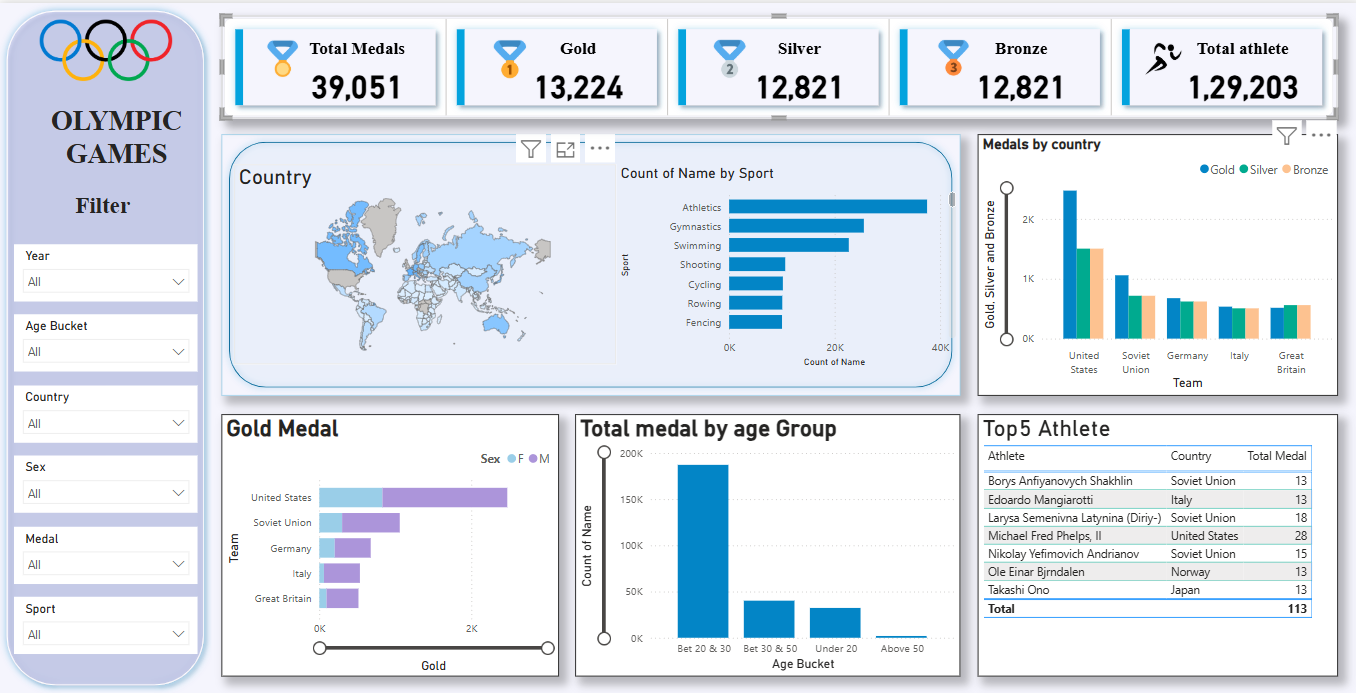

Layout of this report page (visuals, bound fields, positions):
{"tool":"powerbi","page":{"name":"Page 1","canvas":[1580,800],"ordinal":0},"visuals":[{"type":"shape","box":[258,152.2,856.5,302.9],"z":0},{"type":"cardVisual","fields":{"Data":["All Measures.Total Medals","All Measures.Glod","All Measures.Silver","All Measures.Bronze","All Measures.Total athlete"]},"box":[258,14.5,1294.2,120.3],"z":1000},{"type":"shapeMap","title":"Country ","fields":{"Value":["athlete.Medal"],"Category":["athlete.Team"]},"box":[272.5,187,443.5,231.9],"z":2000},{"type":"barChart","fields":{"Category":["athlete.Sport"],"Y":["athlete.Name"]},"box":[668.1,184.1,398.6,240.6],"z":3000},{"type":"clusteredColumnChart","title":"Medals by country ","fields":{"Category":["athlete.Team"],"Y":["All Measures.Gold","All Measures.Silver","All Measures.Bronze"]},"box":[1134.8,152.2,417.4,302.9],"z":4000},{"type":"barChart","title":"Gold Medal","fields":{"Category":["athlete.Team"],"Y":["All Measures.Gold"],"Series":["athlete.Sex"]},"box":[258,476.8,391.3,304.3],"z":5000},{"type":"columnChart","title":"Total medal by age Group","fields":{"Category":["athlete.Age Bucket"],"Y":["athlete.Name"]},"box":[668.1,476.8,446.4,304.3],"z":6000},{"type":"tableEx","title":"Top5 Athlete ","fields":{"Values":["athlete.Name","athlete.Team","athlete.Medal"]},"box":[1134.8,476.8,417.4,304.3],"z":7000},{"type":"shape","box":[0,0,246.4,800],"z":8000},{"type":"image","box":[22.9,14.5,201.4,81.2],"z":9000},{"type":"textbox","box":[42,113,188.4,88.4],"z":10000},{"type":"textbox","box":[65.6,214.1,115.9,50.7],"z":11000},{"type":"slicer","fields":{"Values":["athlete.Year"]},"box":[17.1,279.9,213,66.7],"z":12000},{"type":"slicer","fields":{"Values":["athlete.Team"]},"box":[17.1,443.3,213,66.7],"z":13000},{"type":"slicer","fields":{"Values":["athlete.Sex"]},"box":[17.1,525,213,66.7],"z":14000},{"type":"slicer","fields":{"Values":["athlete.Medal"]},"box":[17.1,606.7,213,66.7],"z":15000},{"type":"slicer","fields":{"Values":["athlete.Sport"]},"box":[17.1,688.4,213,66.7],"z":16000},{"type":"slicer","fields":{"Values":["athlete.Age Bucket"]},"box":[17.1,361.6,213,66.7],"z":17000}]}

Visuals, with their boxes in screenshot pixels (x1, y1, x2, y2), scaled from the page's 1580x800 canvas onto the 1356x693 screenshot:
shape: (221,132,956,394)
cardVisual - All Measures.Total Medals x All Measures.Glod: (221,13,1332,117)
"Country " shapeMap: (234,162,614,363)
barChart - athlete.Sport x athlete.Name: (573,159,915,368)
"Medals by country " clusteredColumnChart: (974,132,1332,394)
"Gold Medal" barChart: (221,413,557,677)
"Total medal by age Group" columnChart: (573,413,956,677)
"Top5 Athlete " tableEx: (974,413,1332,677)
shape: (0,0,211,692)
image: (20,13,193,83)
textbox: (36,98,198,174)
textbox: (56,185,156,229)
slicer - athlete.Year: (15,242,197,300)
slicer - athlete.Team: (15,384,197,442)
slicer - athlete.Sex: (15,455,197,513)
slicer - athlete.Medal: (15,526,197,583)
slicer - athlete.Sport: (15,596,197,654)
slicer - athlete.Age Bucket: (15,313,197,371)
